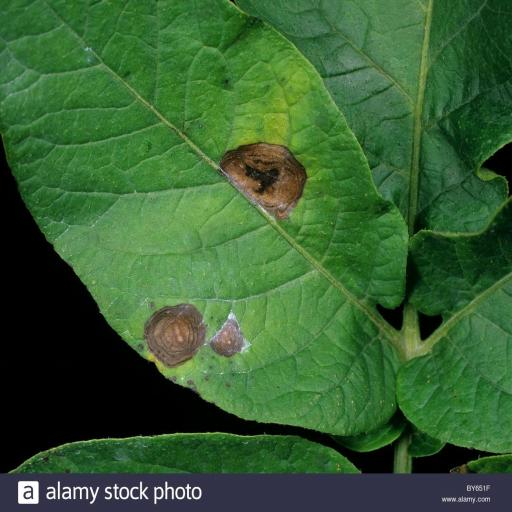Early Blight: (0, 0, 419, 439)
